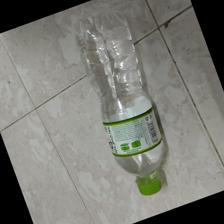Dasani: (77, 7, 164, 196)
